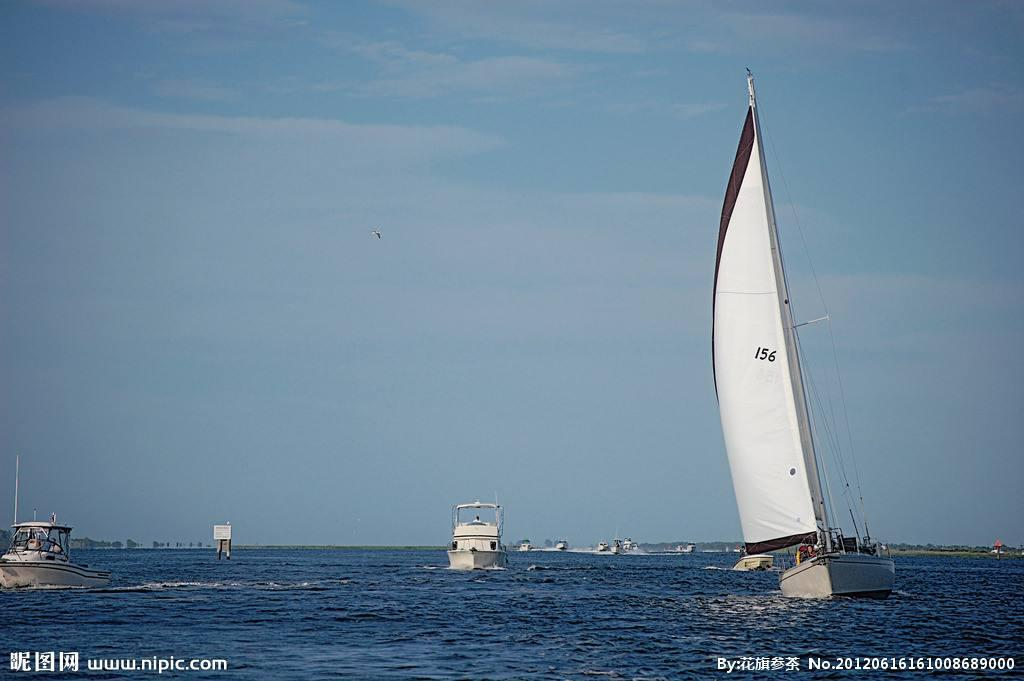fanchuan: (710, 64, 929, 604)
otherboat: (5, 514, 107, 590), (436, 492, 521, 575)
